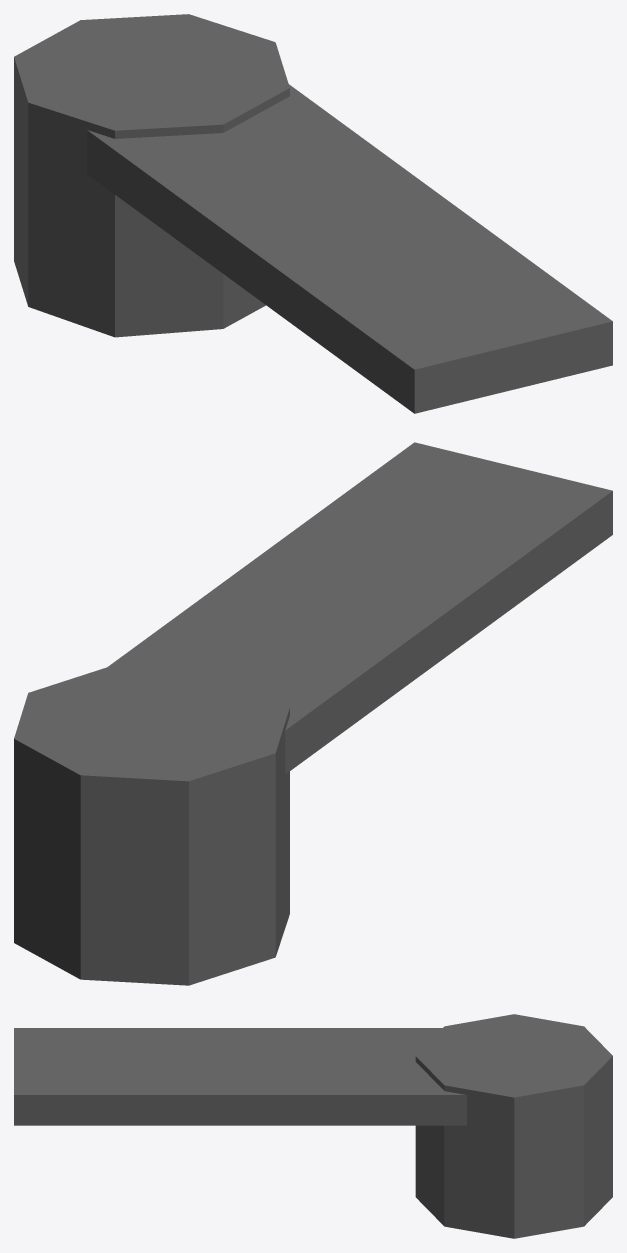
File: Itr_Washstand_Tap_Cap_01.FBX
The picture shows the model from 3 angles, top to bottom: view 1: azimuth 30°, elevation 25°; view 2: azimuth 150°, elevation 25°; view 3: azimuth 270°, elevation 25°; orthographic projection. The views are drawn at different scales.
Parts seen in each view (by area): view 1: Itr_Basin_Tap_Cap_01; view 2: Itr_Basin_Tap_Cap_01; view 3: Itr_Basin_Tap_Cap_01.
Part boxes in pixels (left/top/right/bottom): Itr_Basin_Tap_Cap_01: left=14, top=14, right=612, bottom=413; Itr_Basin_Tap_Cap_01: left=14, top=442, right=612, bottom=985; Itr_Basin_Tap_Cap_01: left=14, top=1014, right=612, bottom=1238.
Bounding box in the file's own units: 1.8 × 1.43 × 5.45.
